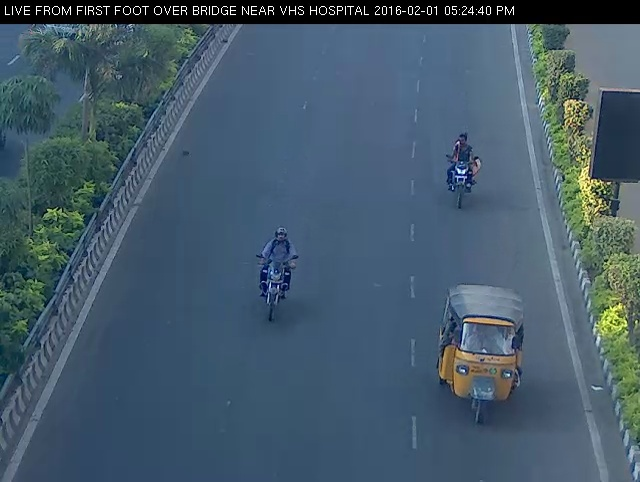Car: (419, 268, 542, 435)
Person: (248, 212, 300, 321), (435, 119, 490, 216)
